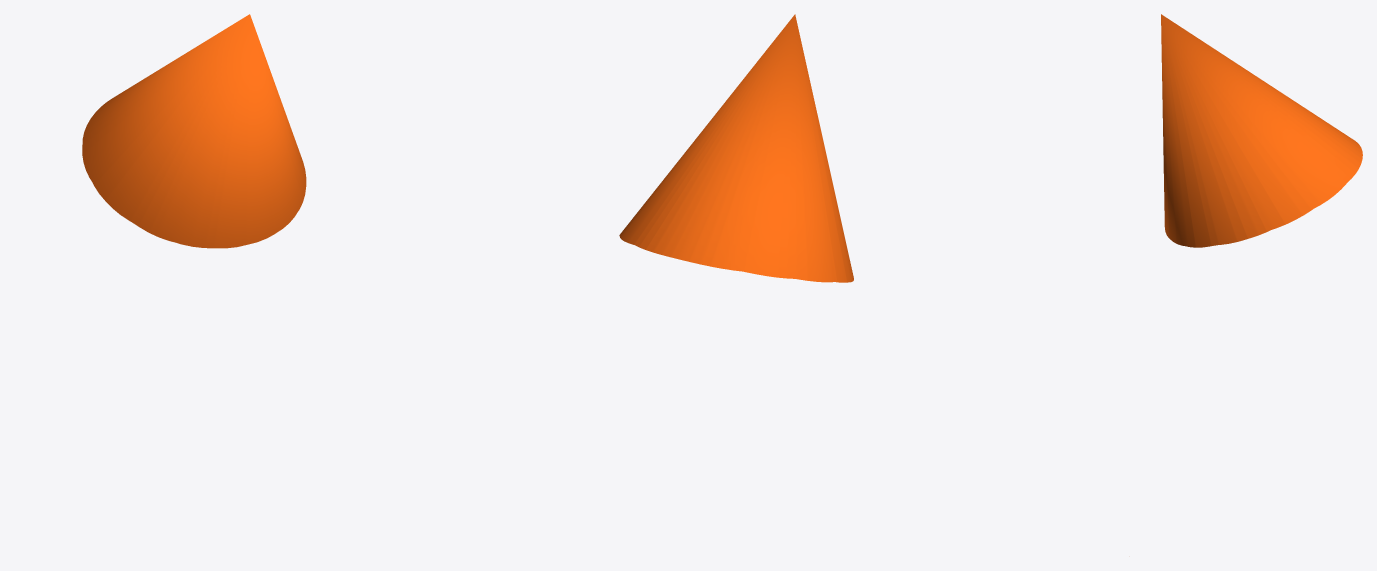
The model's file is BUG HORN.fbx.
The picture shows the model from 3 angles, left to right: view 1: azimuth 30°, elevation 25°; view 2: azimuth 150°, elevation 25°; view 3: azimuth 270°, elevation 25°; orthographic projection. The views are drawn at different scales.
Parts seen in each view (by area): view 1: Object_6; view 2: Object_6; view 3: Object_6.
Part boxes in pixels (x1,y1,x2,y2): Object_6: [82, 14, 306, 248]; Object_6: [619, 14, 853, 282]; Object_6: [1161, 14, 1362, 247].
Bounding box in the file's own units: 37.61 × 33.37 × 18.06.
